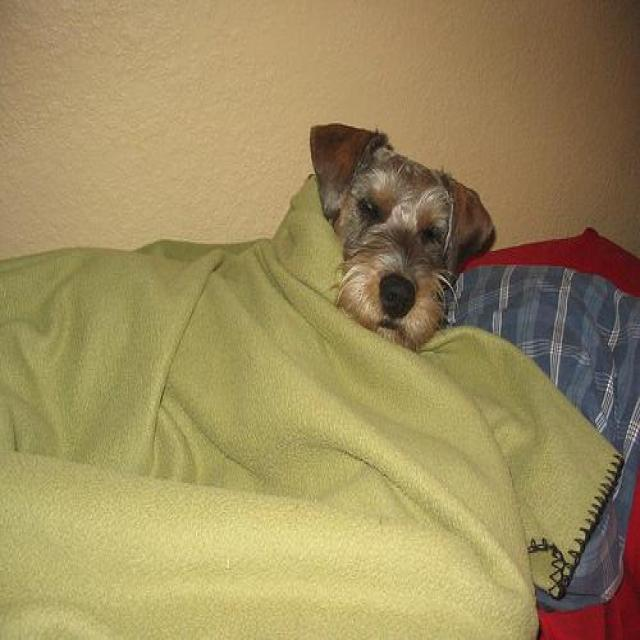standard_schnauzer: (307, 120, 499, 352)
